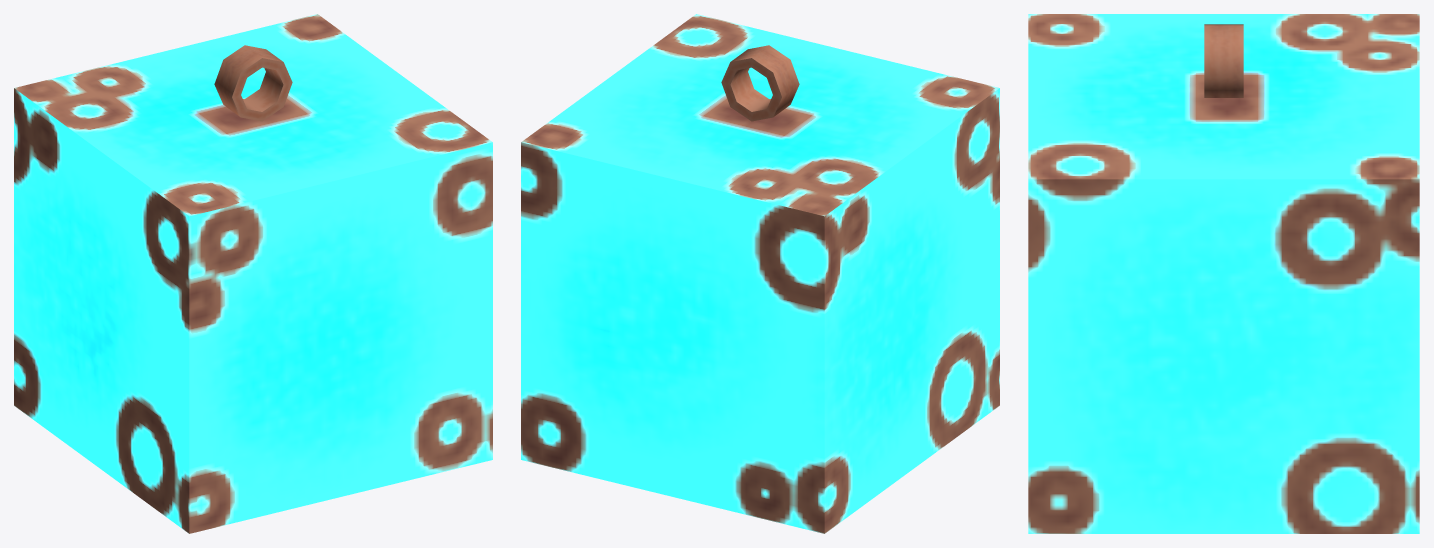
The model's file is bombCube.gltf.
The picture shows the model from 3 angles, left to right: view 1: azimuth 30°, elevation 25°; view 2: azimuth 150°, elevation 25°; view 3: azimuth 270°, elevation 25°; orthographic projection. The views are drawn at different scales.
Visible parts, largest first — view 1: bombCube; view 2: bombCube; view 3: bombCube.
Part boxes in pixels (bbox=[...]): bombCube: bbox=[14, 14, 492, 533]; bombCube: bbox=[521, 14, 999, 533]; bombCube: bbox=[1028, 14, 1419, 533].
Size of the model in its own units: 1 by 1.2 by 1.
Materials: 1 (1 with a texture image).
